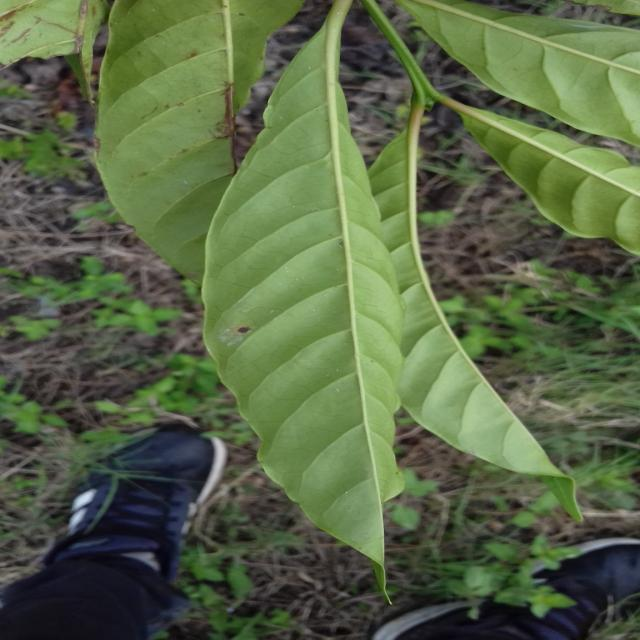Enfermedad-Roya: (195, 27, 403, 592)
